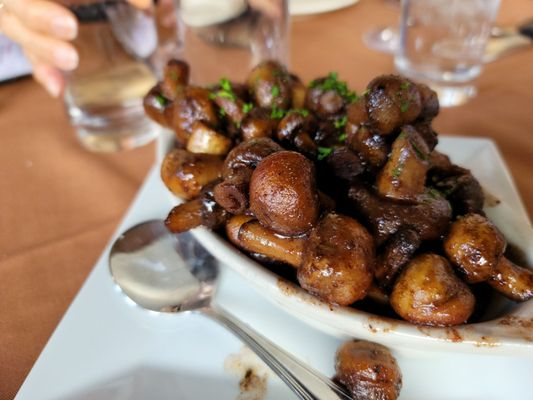pizza: (61, 3, 160, 155), (392, 0, 503, 107)
